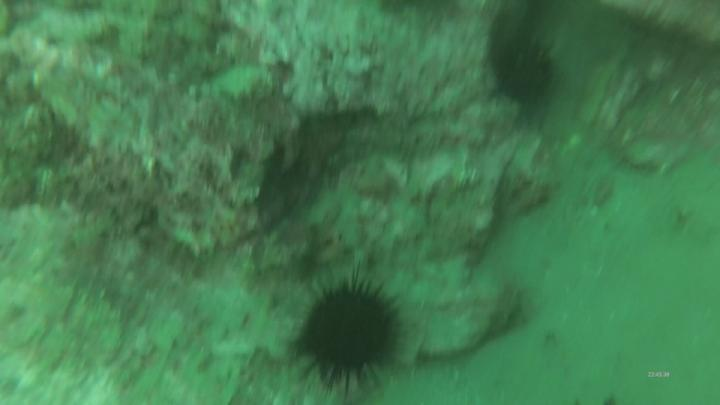echinus: (286, 270, 411, 394), (488, 29, 560, 112)
